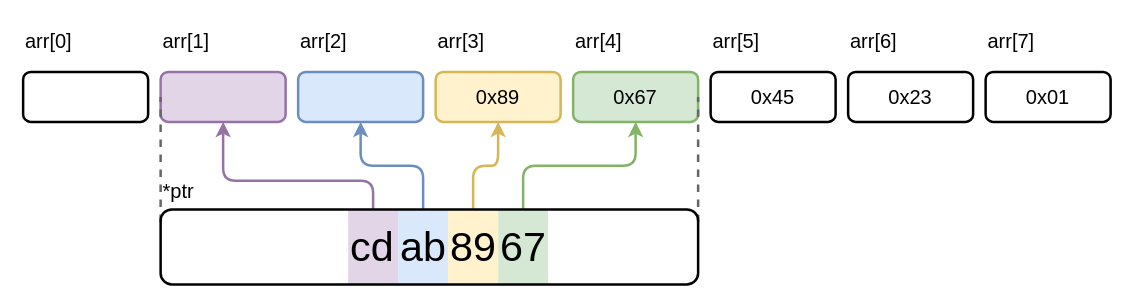
Some shapes in this 1133 by 306 pixel diagram are drawn without their labels. Here are the shapes that lost their labels. From the top down, the centre of each, then its label:
(85,96): 0xef
(222,96): 0xcd
(360,96): 0xab
(323,246): 0x
